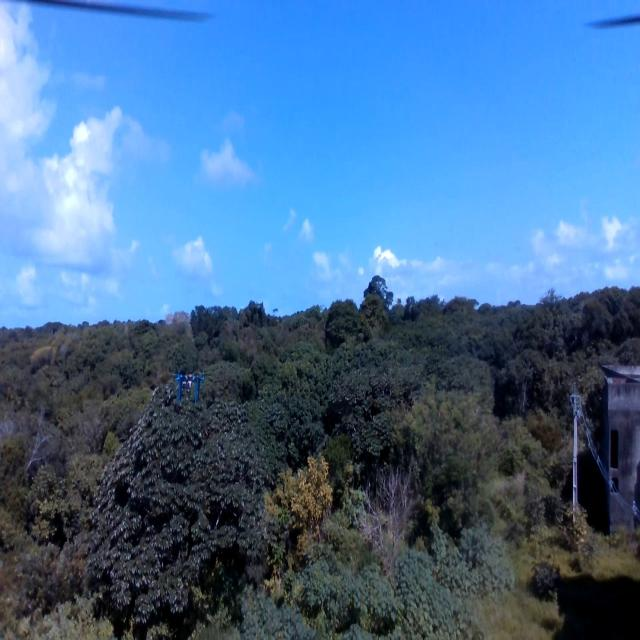-uav-: (173, 361, 204, 406)
